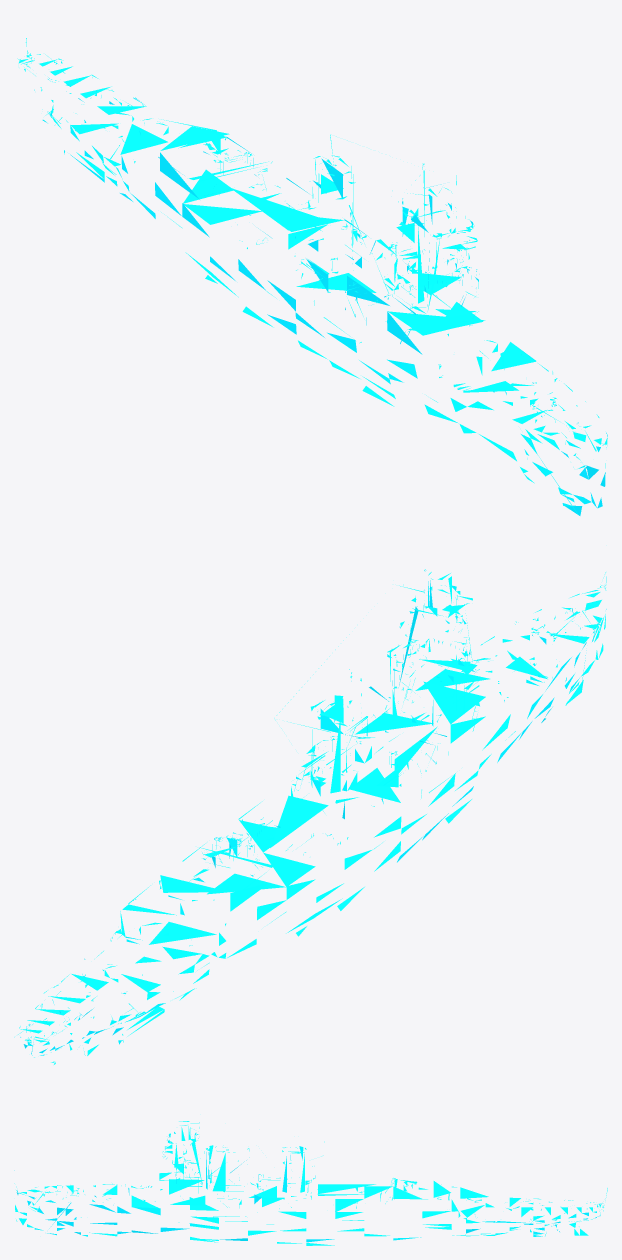
Rendered from Celebes.glb.
3 renders of one model, top to bottom at view 1: azimuth 30°, elevation 25°; view 2: azimuth 150°, elevation 25°; view 3: azimuth 270°, elevation 25°, orthographic. The views are drawn at different scales.
Size of the model in its own units: 1.15 by 2.41 by 10.61.
